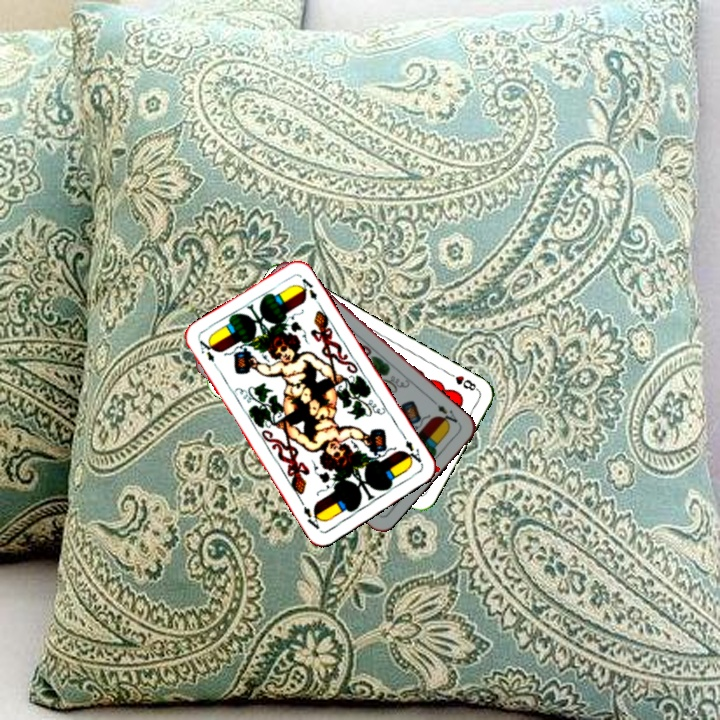EA: (195, 336, 222, 373), (398, 430, 425, 466), (433, 401, 463, 430)
H8: (443, 368, 481, 393)
